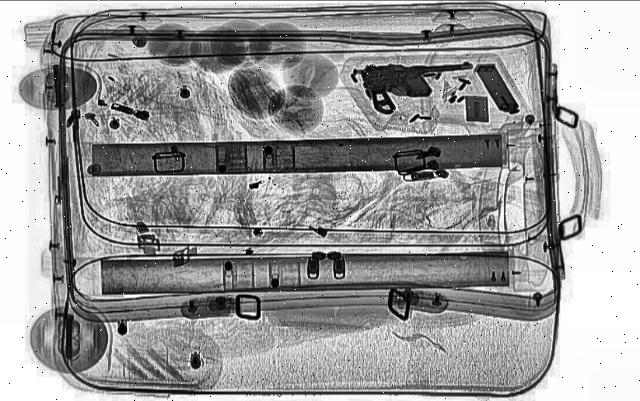Gun: (352, 52, 486, 118)
